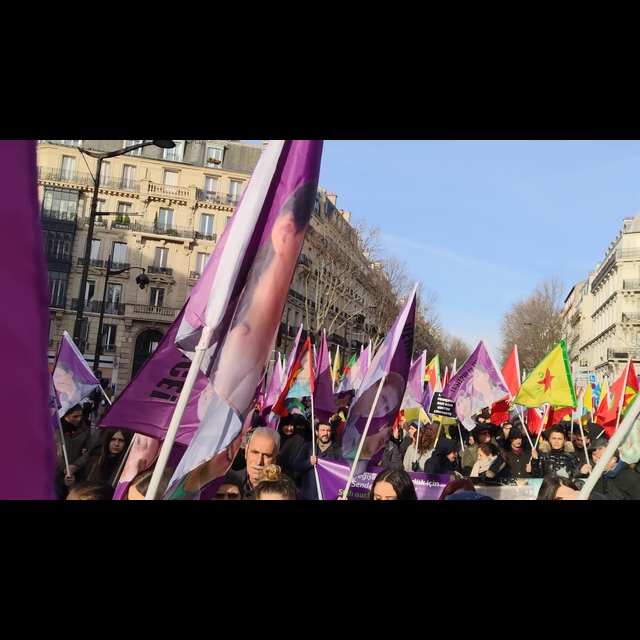YPG: (508, 339, 579, 410)
